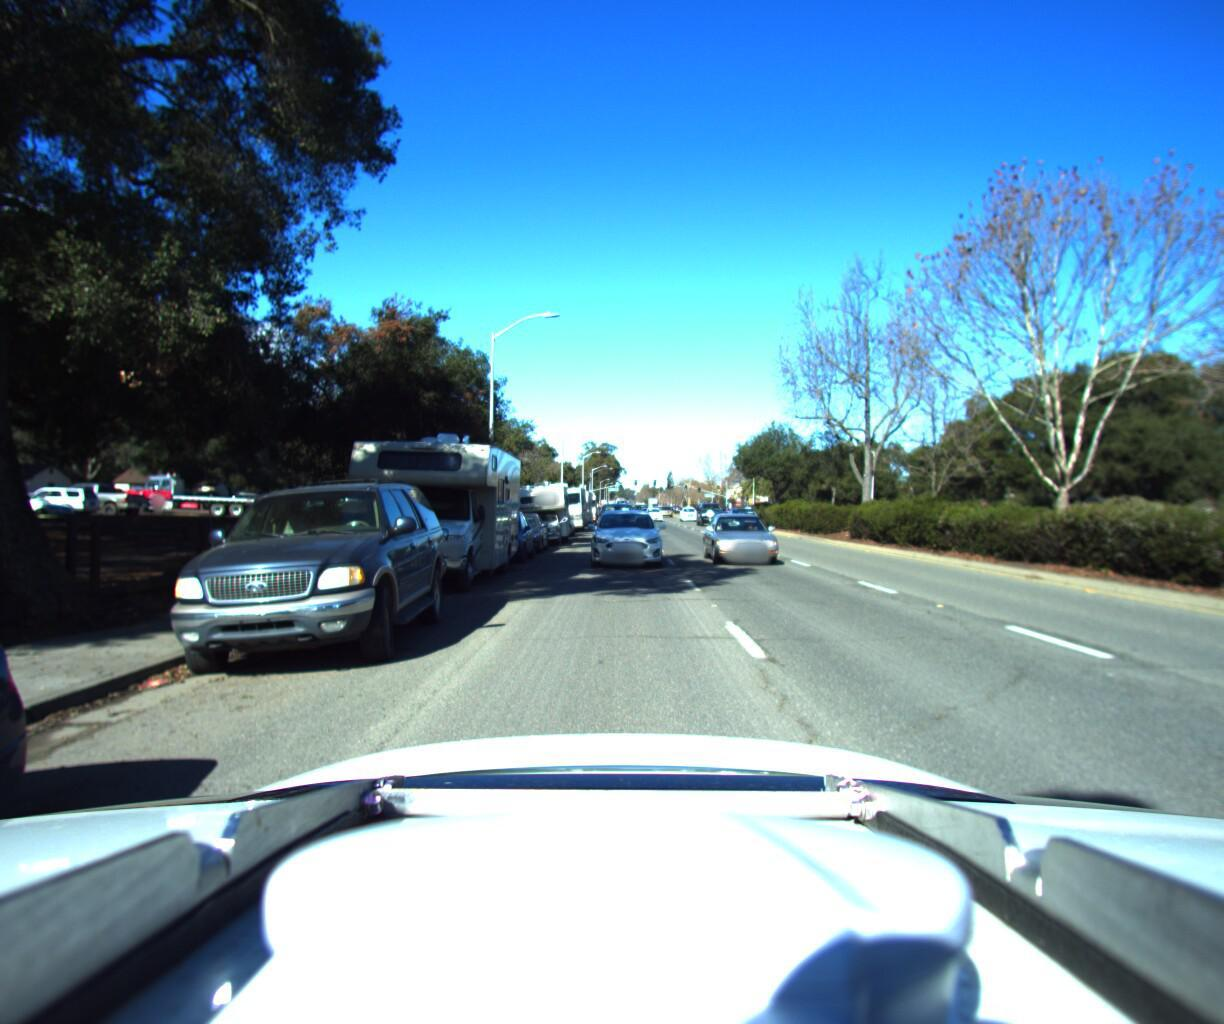car: (108, 454, 470, 701), (703, 503, 800, 567), (593, 502, 668, 566), (462, 502, 540, 560), (483, 504, 554, 551), (534, 502, 575, 534), (696, 499, 727, 519), (680, 498, 701, 515), (642, 496, 662, 514)
other_vehicle: (327, 409, 525, 599), (501, 470, 573, 543), (536, 474, 589, 527), (551, 478, 595, 522), (569, 484, 599, 515)
